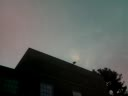window: (5, 78, 18, 93), (40, 83, 53, 96), (73, 91, 85, 96)
